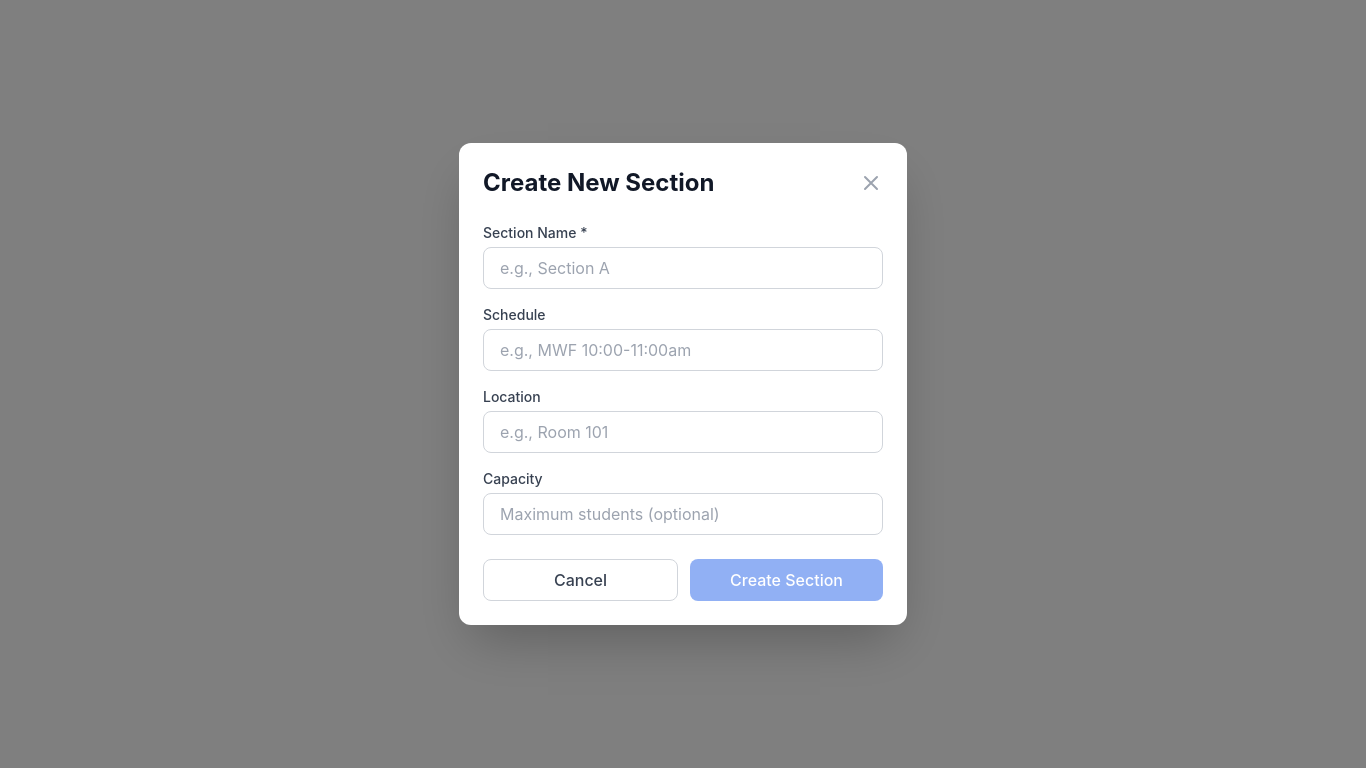
Test case: CreateSectionModal › shows generic error when API fails without error message
Type "Section A" into the field labelled "Section Name *".
click(683, 268); type("Section A")  # box [483,247,883,289]
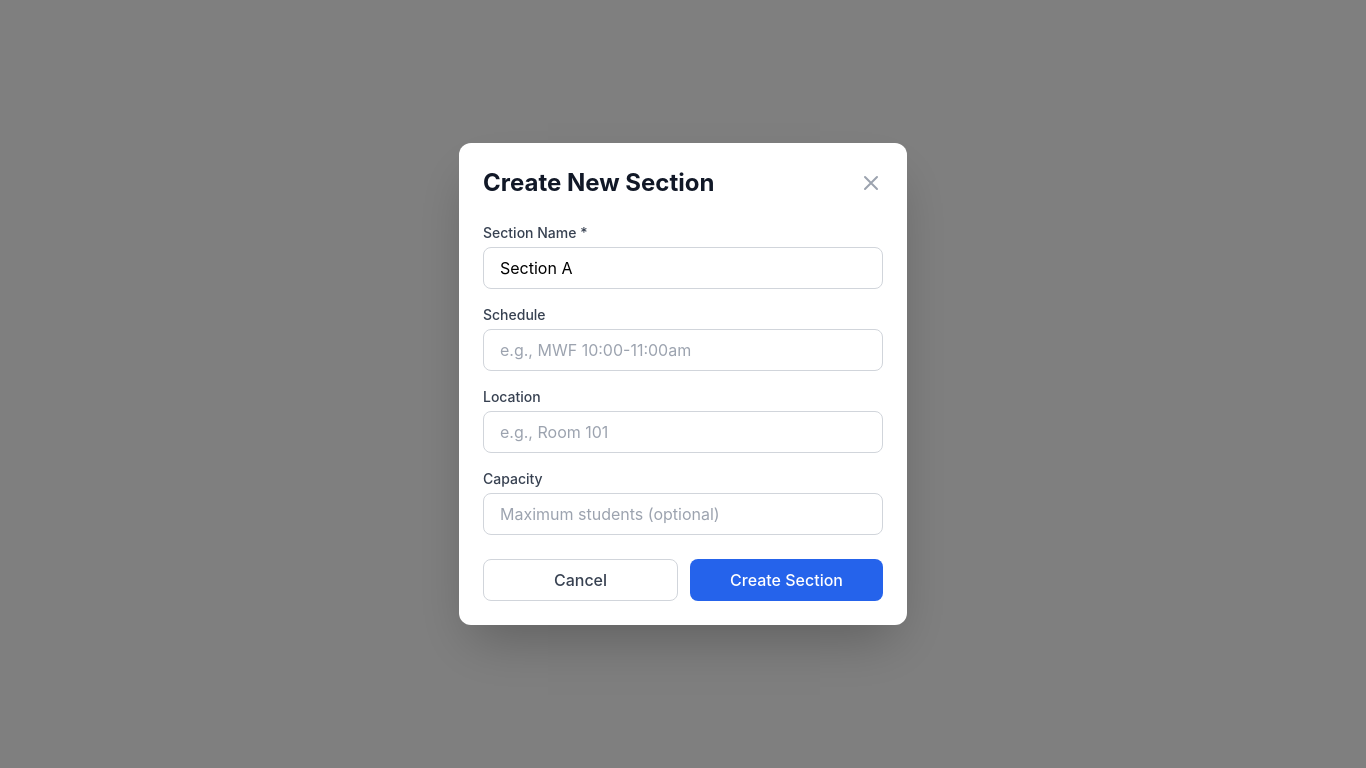
Click the button "Create Section".
click(786, 580)  # box [690,559,883,601]
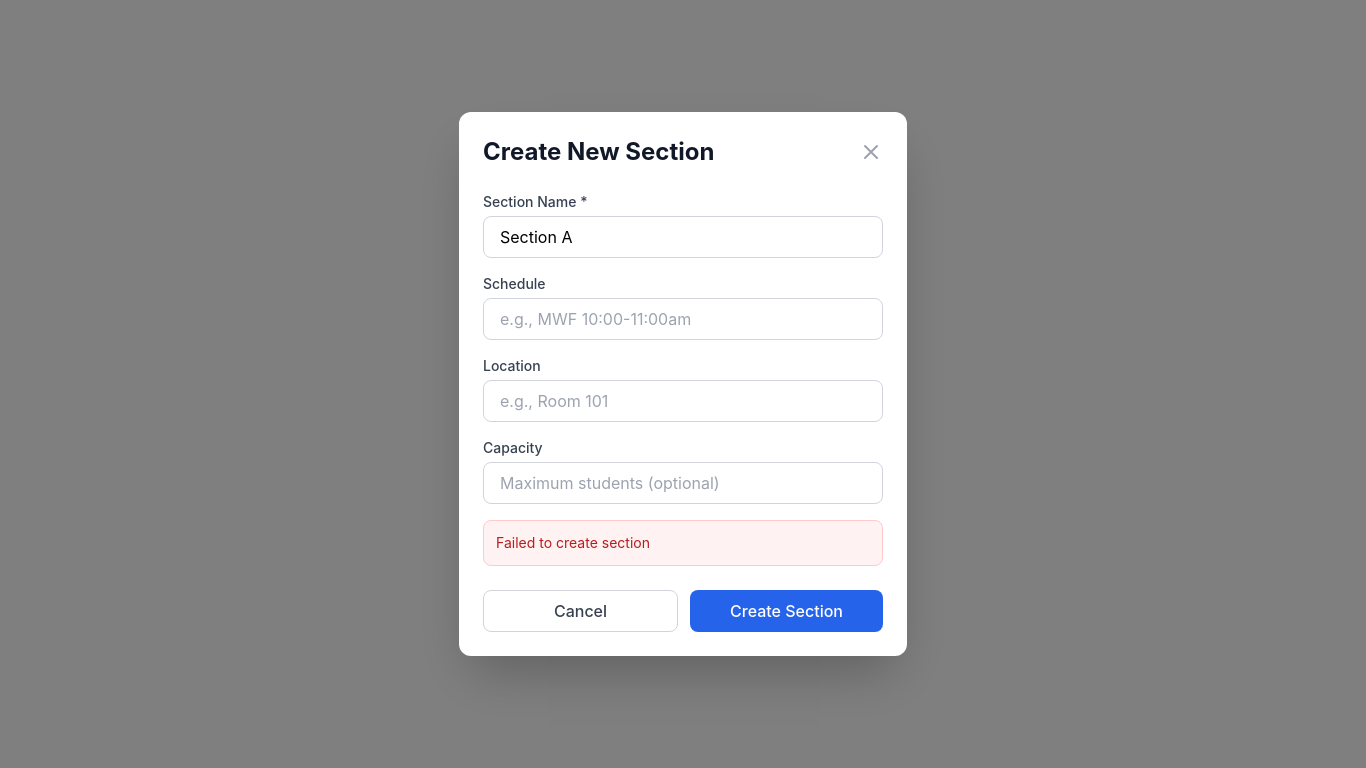
Check: the text "Failed to create section" is shown, box [483,520,883,566]
